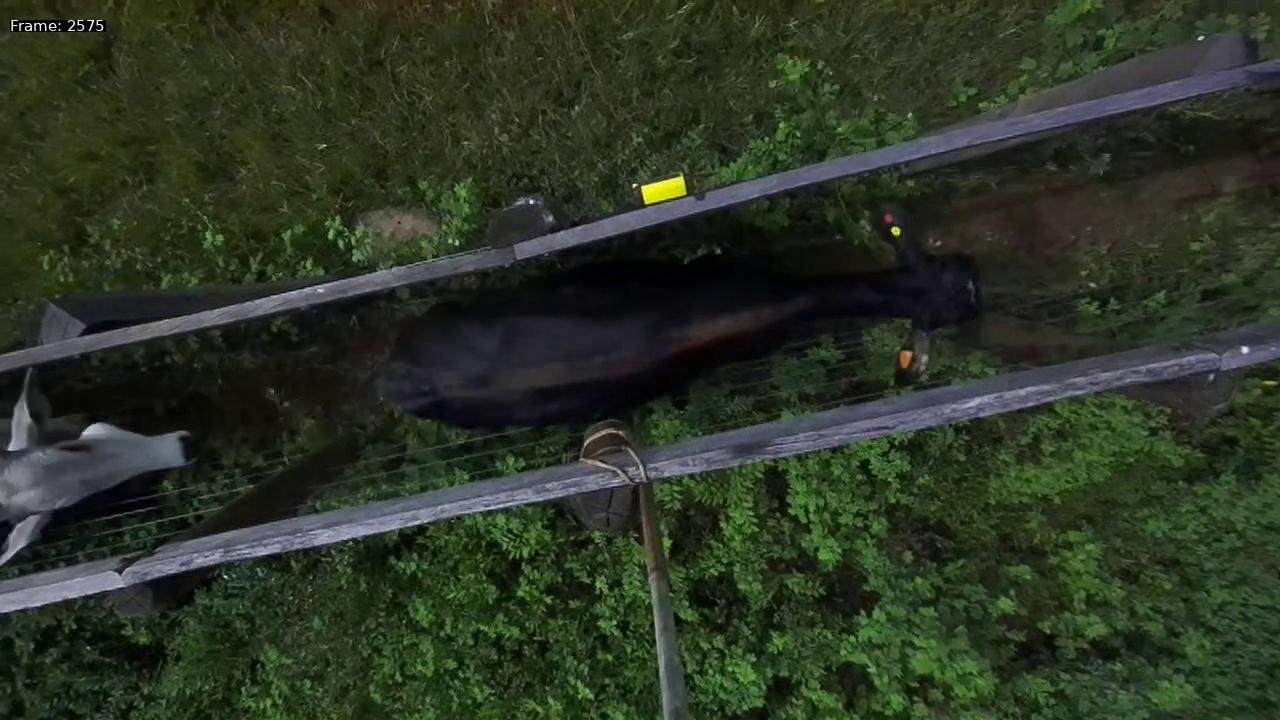cattle: (369, 184, 1022, 446)
